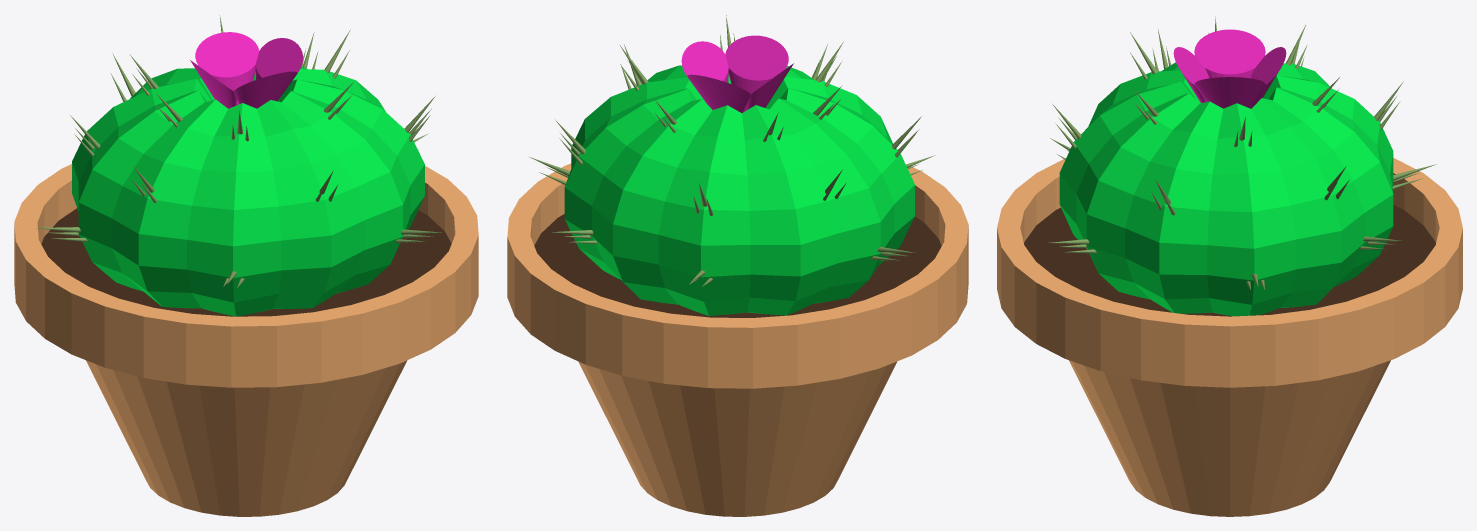
The model's file is cactus.fbx.
3 renders of one model, left to right at view 1: azimuth 30°, elevation 25°; view 2: azimuth 150°, elevation 25°; view 3: azimuth 270°, elevation 25°, orthographic.
Parts seen in each view (by area): view 1: pot, Sphere, fleur_y, fleur_x; view 2: pot, Sphere, fleur_y, fleur_x; view 3: pot, Sphere, fleur_x, fleur_y.
Part boxes in pixels (bbox=[...]): pot: bbox=[14, 164, 478, 516]; Sphere: bbox=[72, 66, 424, 316]; fleur_y: bbox=[195, 32, 297, 108]; fleur_x: bbox=[190, 38, 302, 108]; pot: bbox=[507, 163, 968, 516]; Sphere: bbox=[564, 65, 914, 315]; fleur_y: bbox=[687, 35, 788, 112]; fleur_x: bbox=[681, 41, 793, 109]; pot: bbox=[997, 158, 1462, 516]; Sphere: bbox=[1059, 62, 1393, 316]; fleur_x: bbox=[1194, 29, 1265, 108]; fleur_y: bbox=[1173, 47, 1286, 108].
Bounding box in the file's own units: 457 × 456 × 457.
